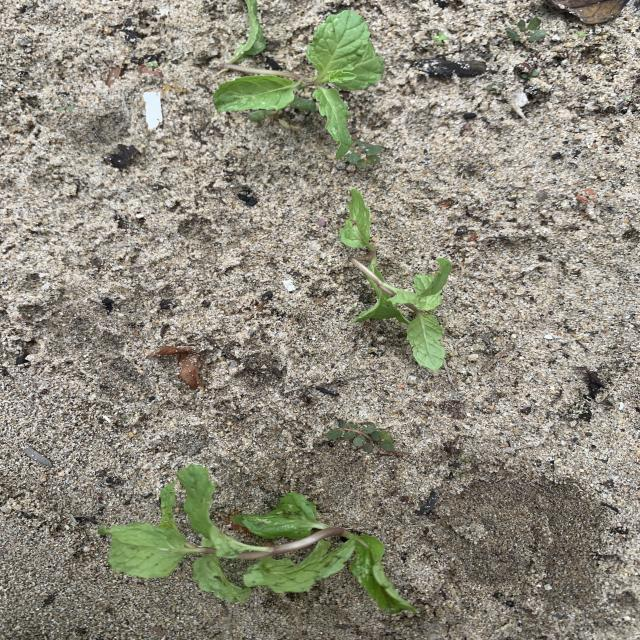crop: (99, 466, 419, 615), (213, 0, 384, 160), (340, 189, 451, 371)
weed: (326, 420, 405, 457), (505, 17, 546, 46), (348, 140, 385, 168), (290, 97, 316, 111), (249, 109, 276, 122), (484, 81, 507, 96), (54, 103, 74, 117), (432, 30, 449, 46), (518, 70, 539, 82), (575, 30, 589, 39)
